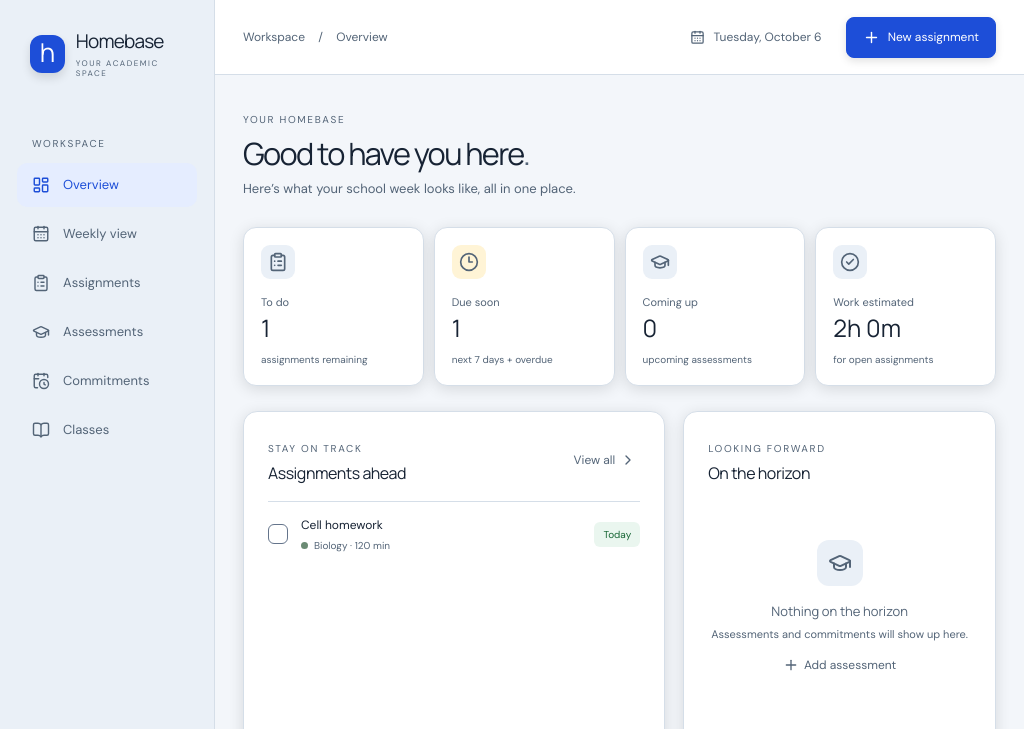
it: availability CRUD and failed persistence › rejects nonpositive or missing end  without saving
Click the button "Weekly view": (107, 234) [17, 212, 197, 256]
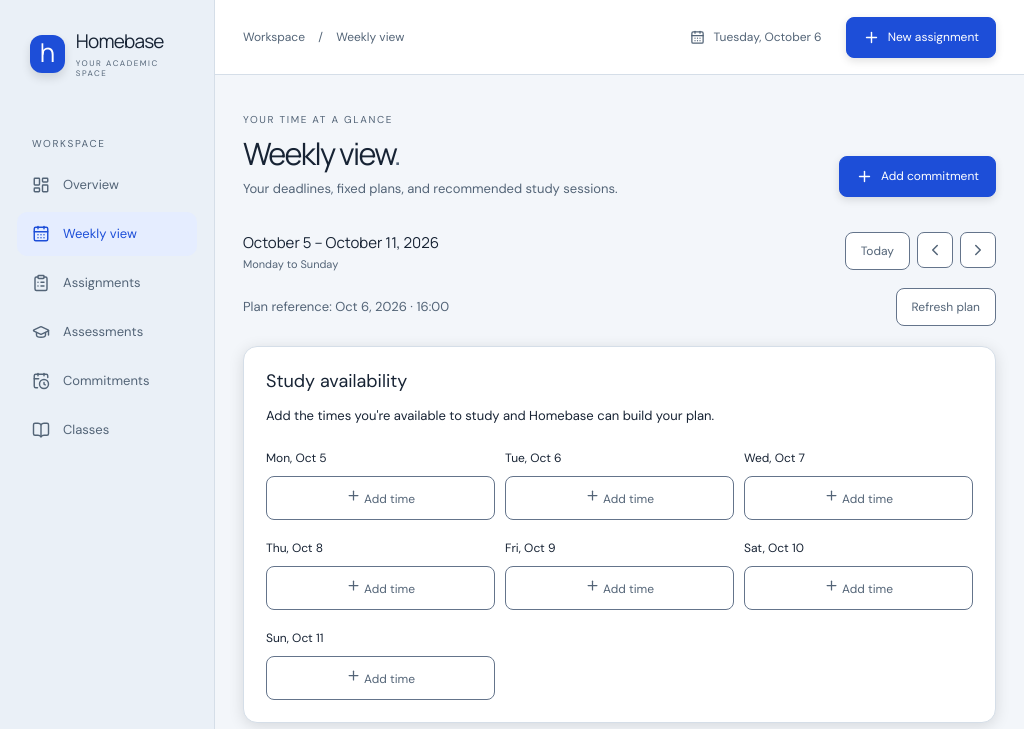
Click the button with aria-label "Add availability for Oct 6": (620, 498) [505, 476, 734, 520]
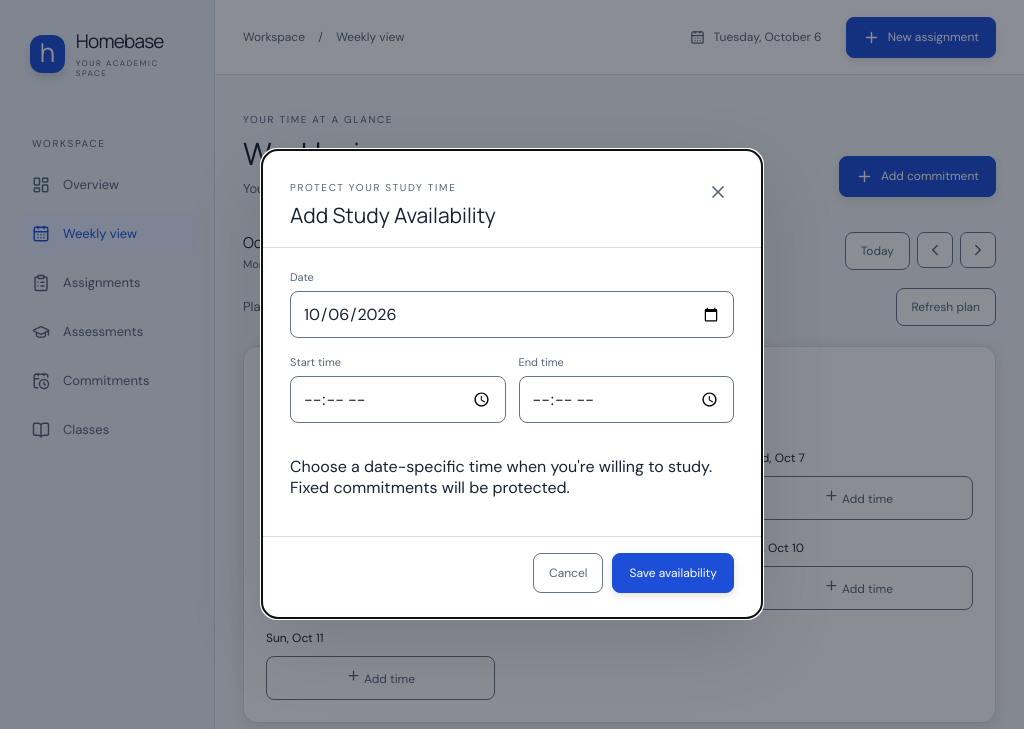
In the time field labelled "Start time": (398, 400) [290, 376, 506, 423], type "16:00"
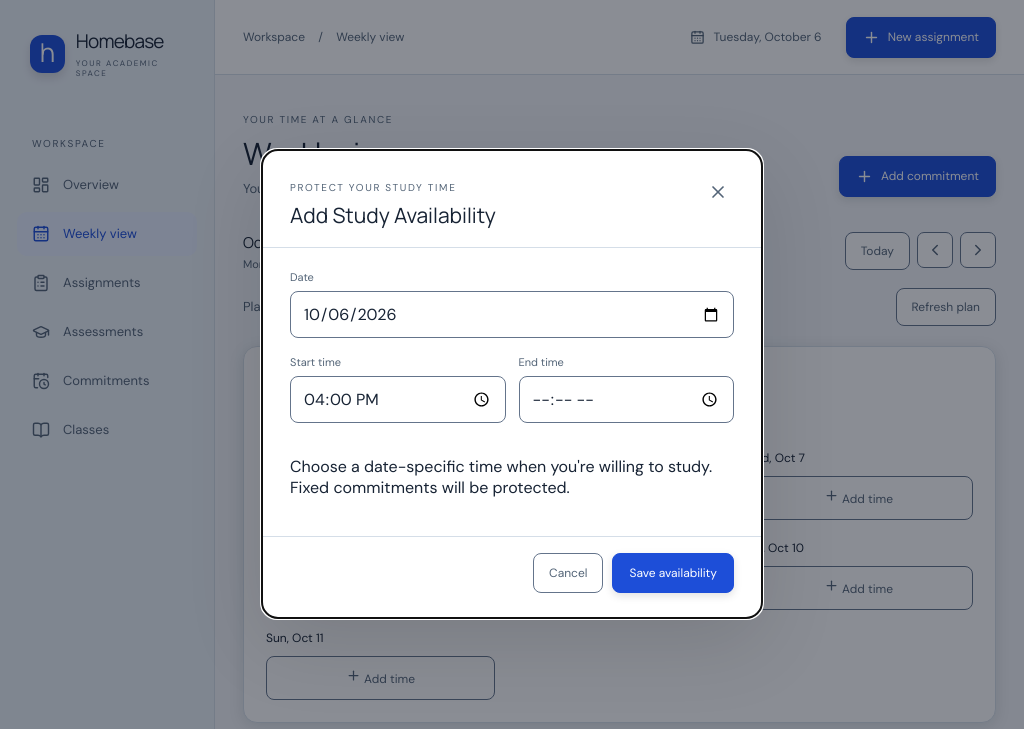
Submit the form, box [262, 248, 762, 618]
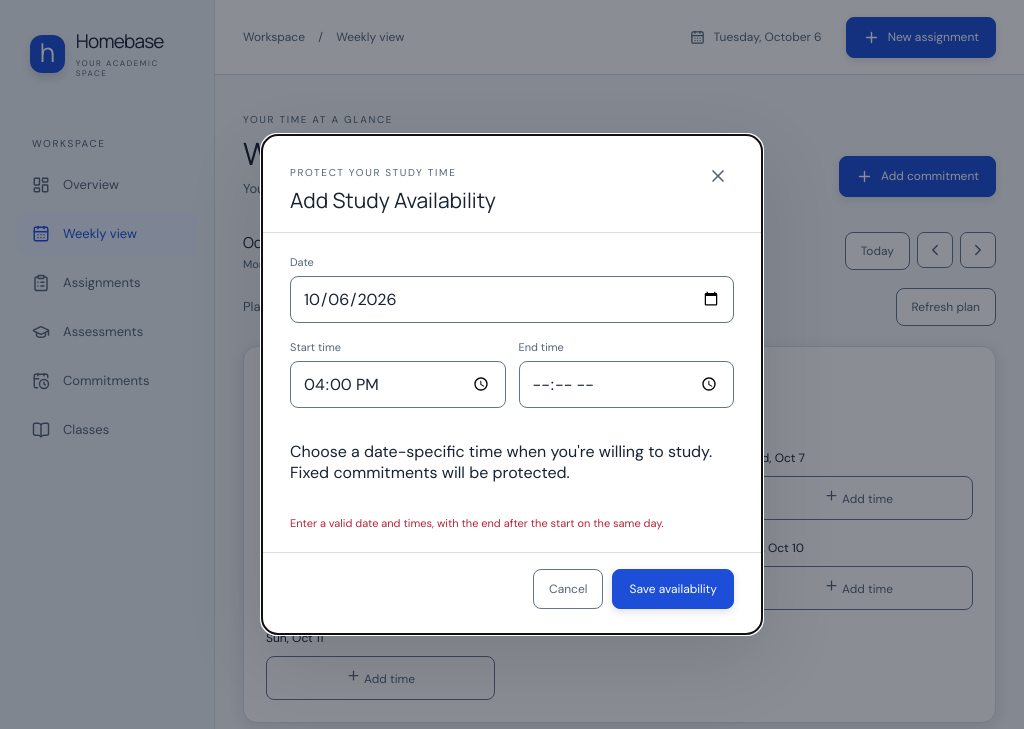
expect the message shows "valid date and times": met, box [290, 516, 664, 530]
